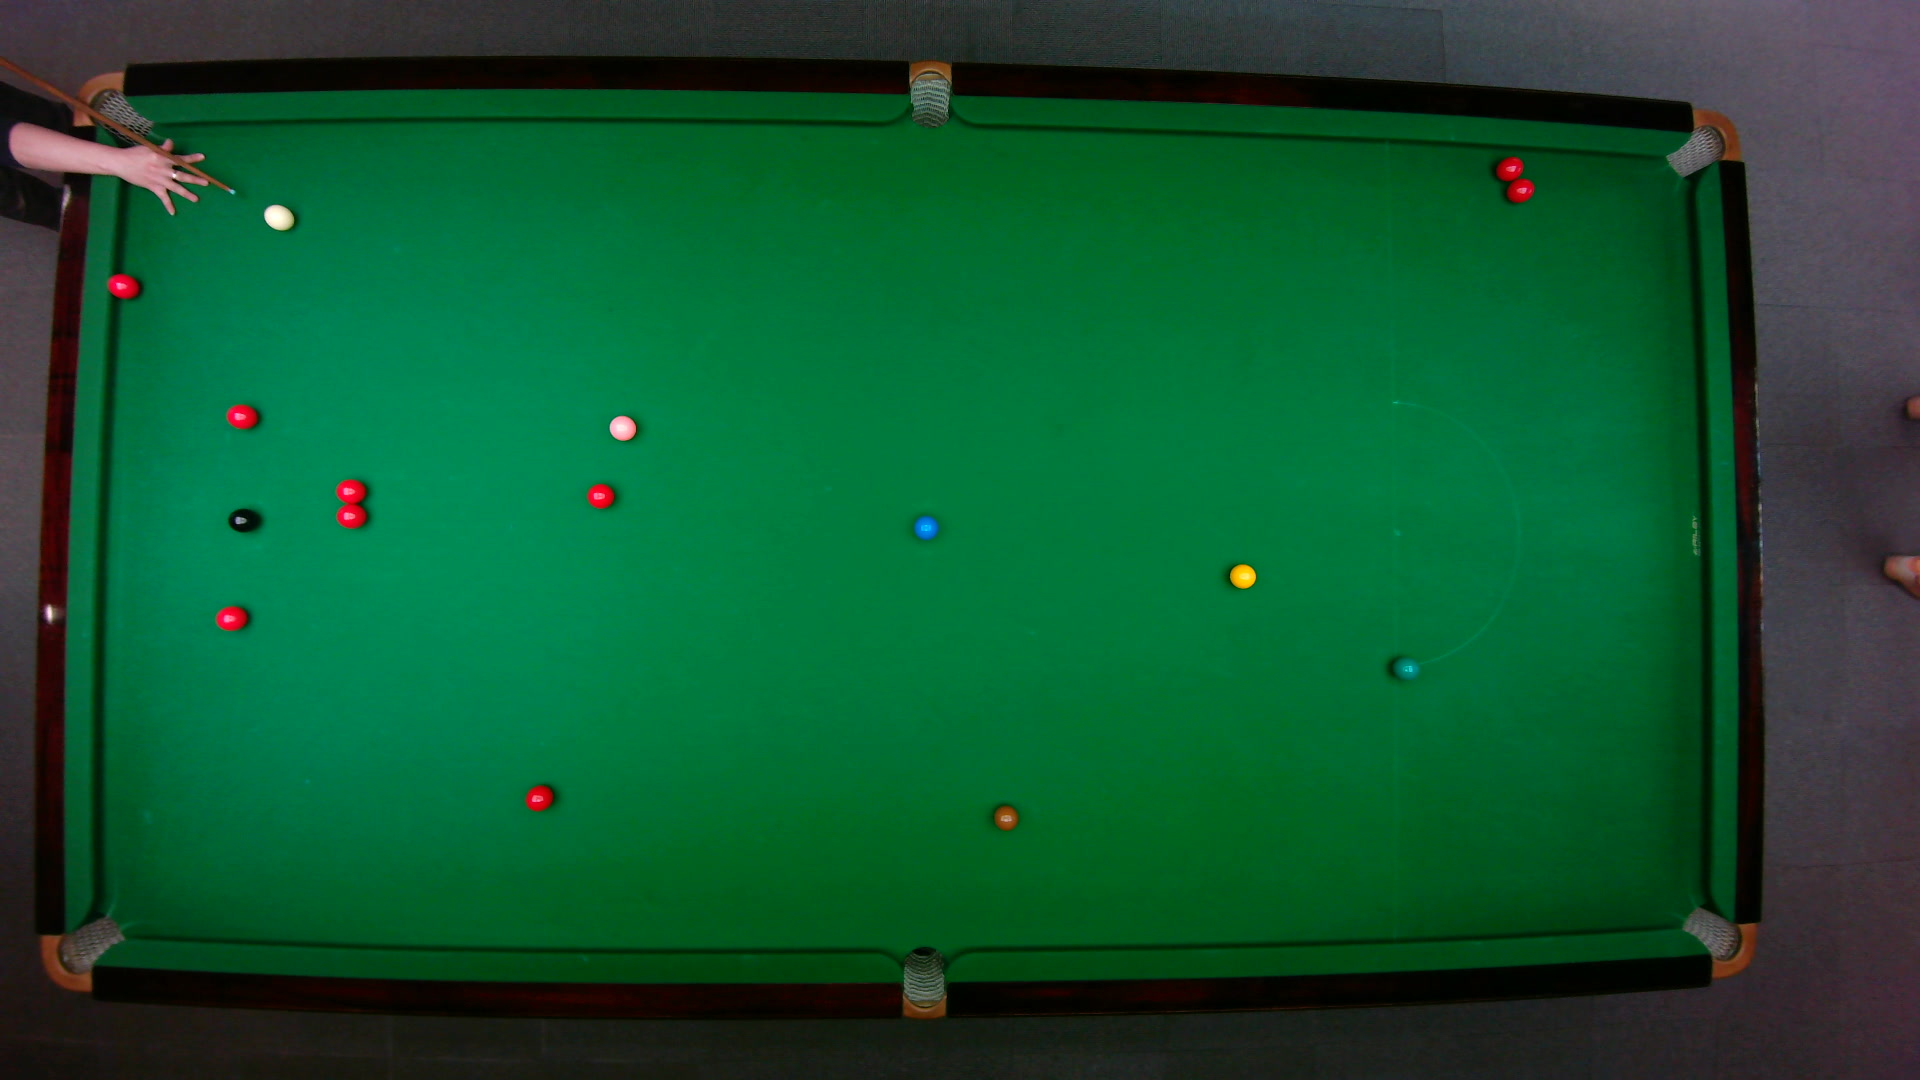bag: (38, 913, 127, 992), (73, 70, 156, 146), (1680, 905, 1758, 978), (1663, 107, 1741, 178), (902, 945, 945, 1021), (909, 59, 952, 129)
black: (225, 506, 258, 534)
blue: (913, 514, 940, 541)
brown: (992, 804, 1021, 832)
cue: (0, 55, 237, 198)
green: (1391, 655, 1419, 680)
pink: (607, 414, 638, 442)
red: (105, 272, 141, 301), (214, 604, 251, 632), (524, 783, 555, 814), (225, 404, 260, 431), (1505, 177, 1538, 204), (335, 504, 368, 530), (335, 477, 368, 504), (1494, 156, 1524, 183), (585, 483, 616, 510)
white: (262, 203, 295, 232)
yellow: (1228, 562, 1257, 589)
zone: (1390, 400, 1520, 669)
